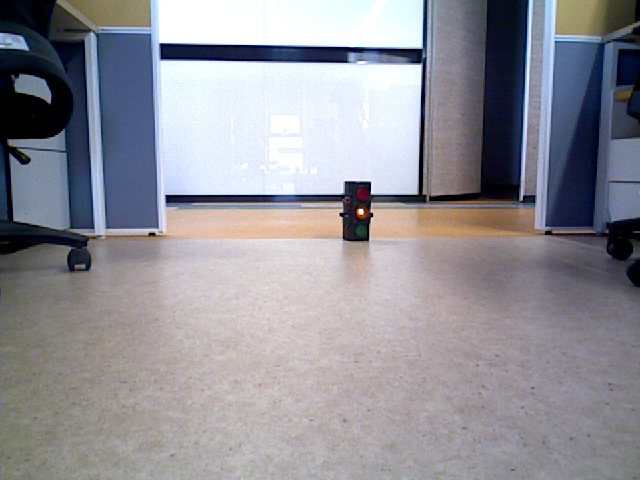yellow: (344, 182, 367, 240)
